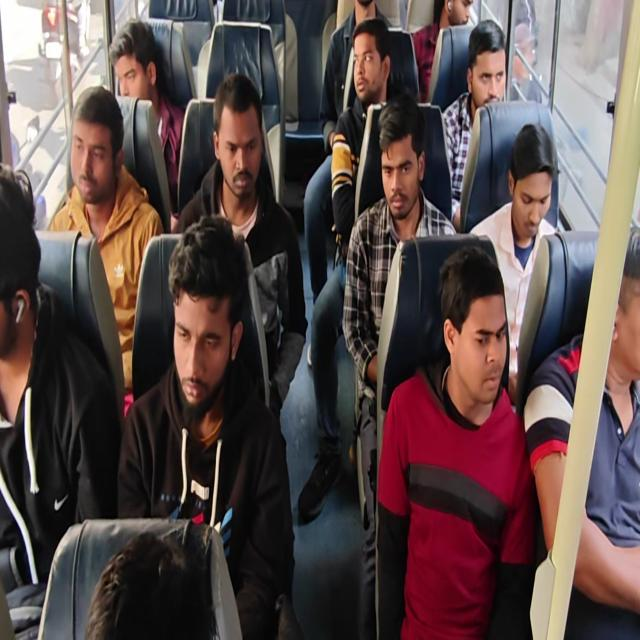person: (72, 92, 127, 205), (112, 30, 156, 99)
